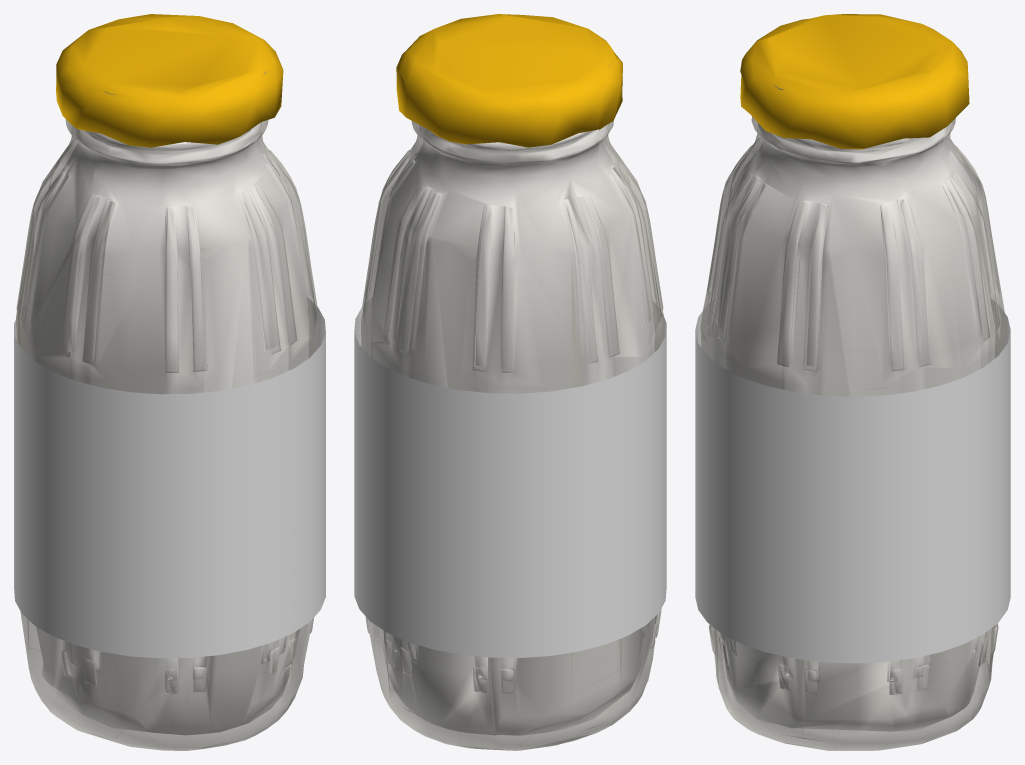
Rendered from sok.glb.
3 views of the same model, side by side, from view 1: azimuth 30°, elevation 25°; view 2: azimuth 150°, elevation 25°; view 3: azimuth 270°, elevation 25° (orthographic).
Visible parts, largest first — view 1: BUTELKA, ETYKIETA, LIQUID.001, zakretka; view 2: BUTELKA, ETYKIETA, LIQUID.001, zakretka; view 3: BUTELKA, ETYKIETA, LIQUID.001, zakretka.
Boxes of the visible parts, box(x1,y1,x2,y2) form: BUTELKA: box(16, 119, 318, 750); ETYKIETA: box(14, 297, 325, 658); LIQUID.001: box(26, 122, 309, 735); zakretka: box(56, 14, 283, 147); BUTELKA: box(361, 119, 664, 750); ETYKIETA: box(354, 297, 666, 657); LIQUID.001: box(370, 125, 654, 735); zakretka: box(396, 14, 622, 147); BUTELKA: box(700, 116, 1006, 750); ETYKIETA: box(695, 299, 1010, 663); LIQUID.001: box(712, 123, 995, 731); zakretka: box(740, 14, 969, 149).
Bounding box in the file's own units: 0.8394 × 1.92 × 0.8394.
4 materials, 1 textured.
